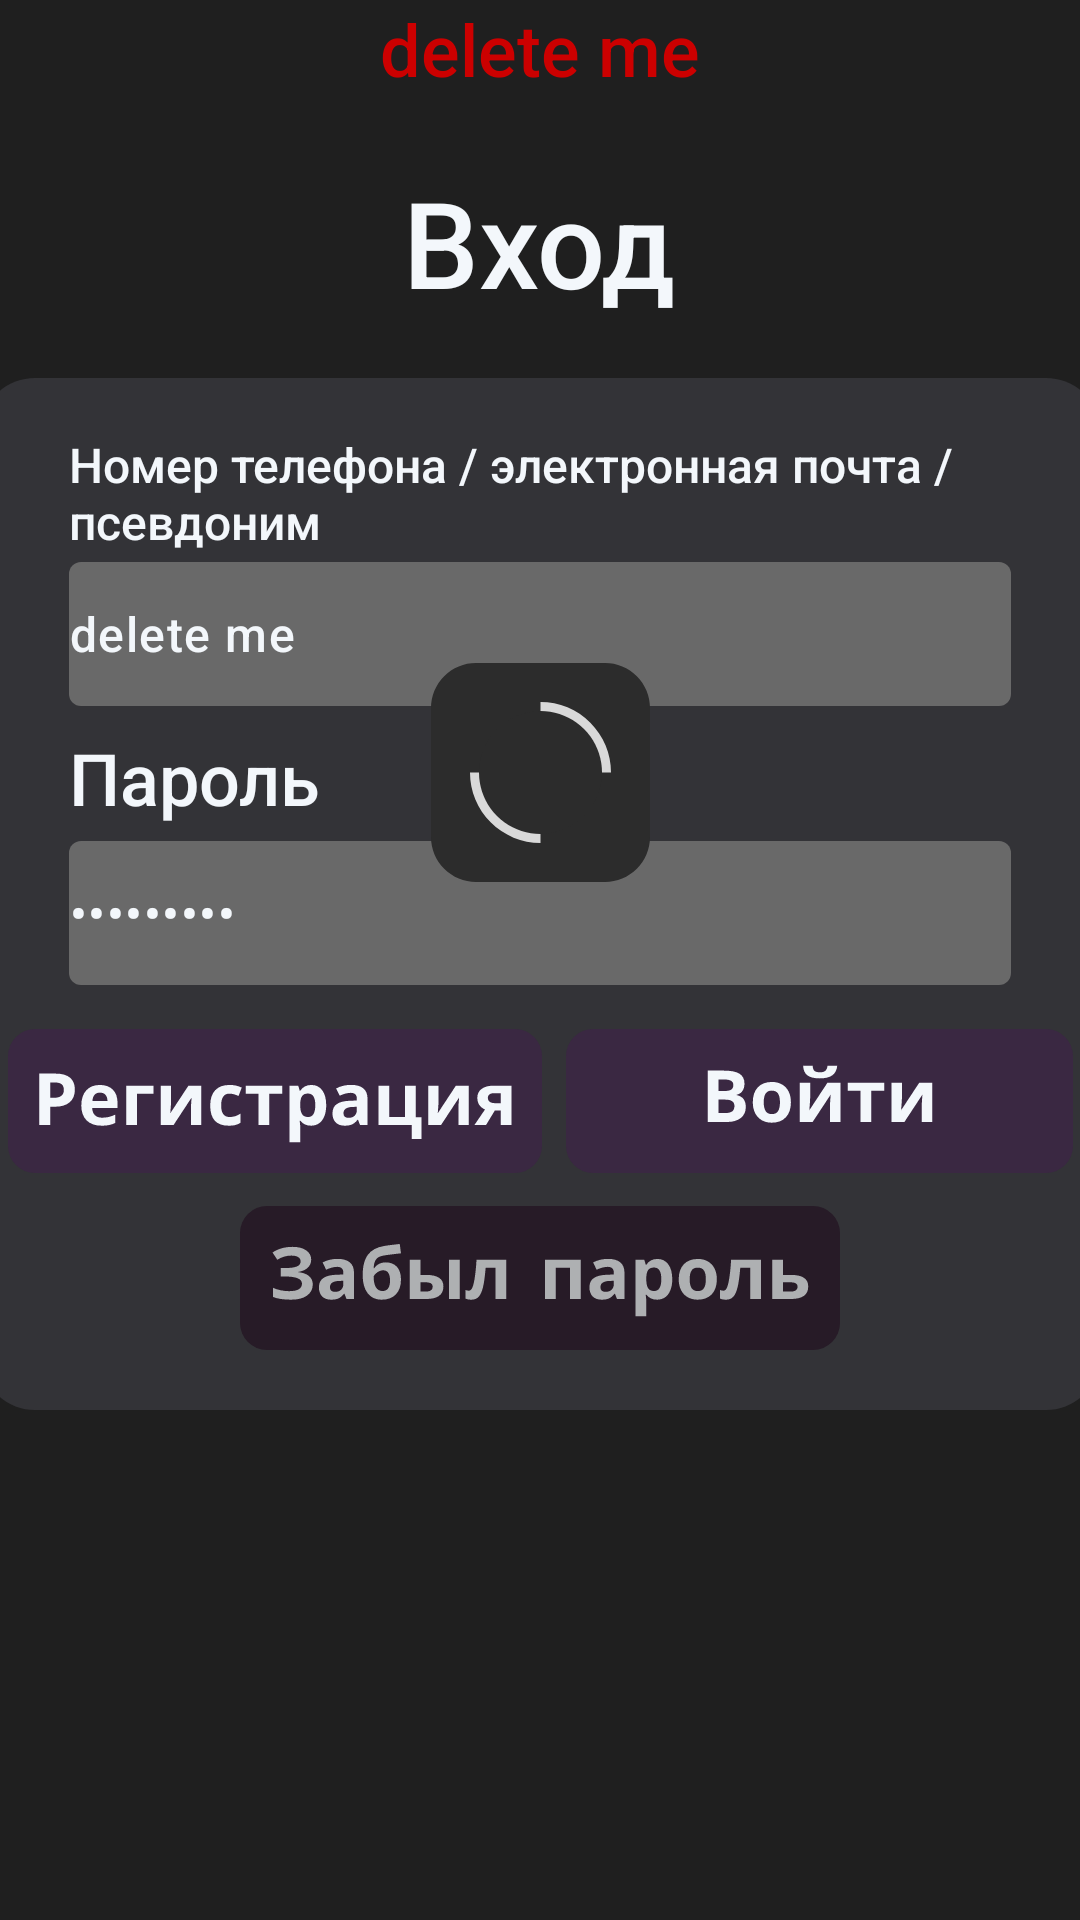

Named icons in this screenshot (1080px×1920px) and their bounding boxes, (x1, y1, x2, y2):
loading anim: (431, 663, 650, 882)
